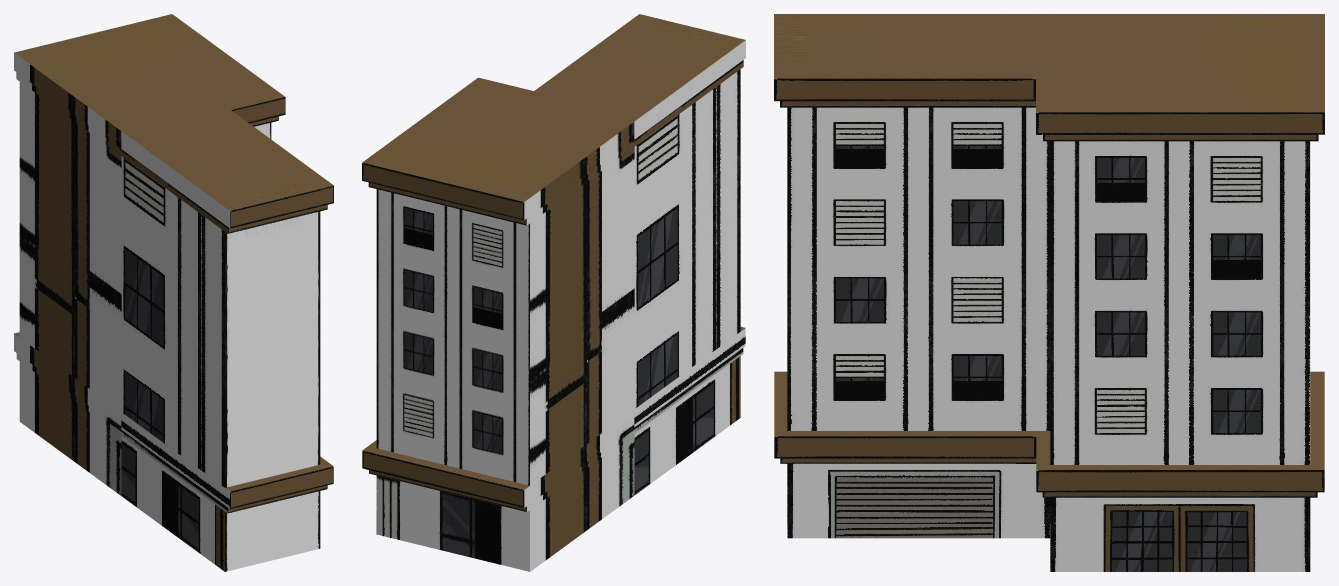
Rendered from predio-1.glb.
The picture shows the model from 3 angles, left to right: view 1: azimuth 30°, elevation 25°; view 2: azimuth 150°, elevation 25°; view 3: azimuth 270°, elevation 25°; orthographic projection. The views are drawn at different scales.
Parts seen in each view (by area): view 1: Cube; view 2: Cube; view 3: Cube.
Boxes of the visible parts, <box> form: Cube: <box>14,14,333,571</box>; Cube: <box>362,14,745,571</box>; Cube: <box>774,14,1324,571</box>.
Size of the model in its own units: 2.11 by 4.66 by 5.
Materials: 1 (1 with a texture image).
